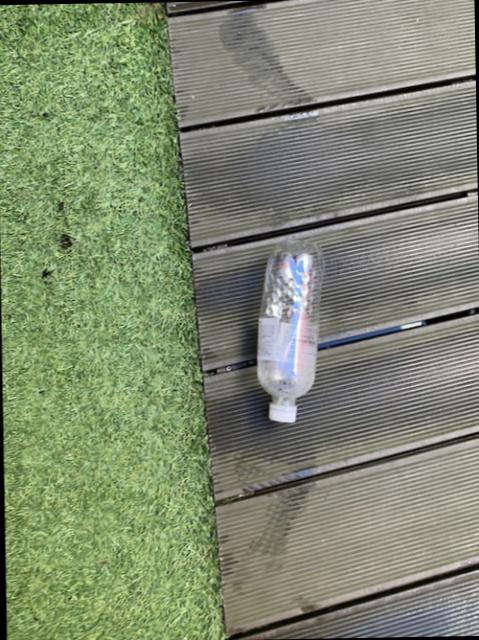plastic: (257, 238, 324, 420)
